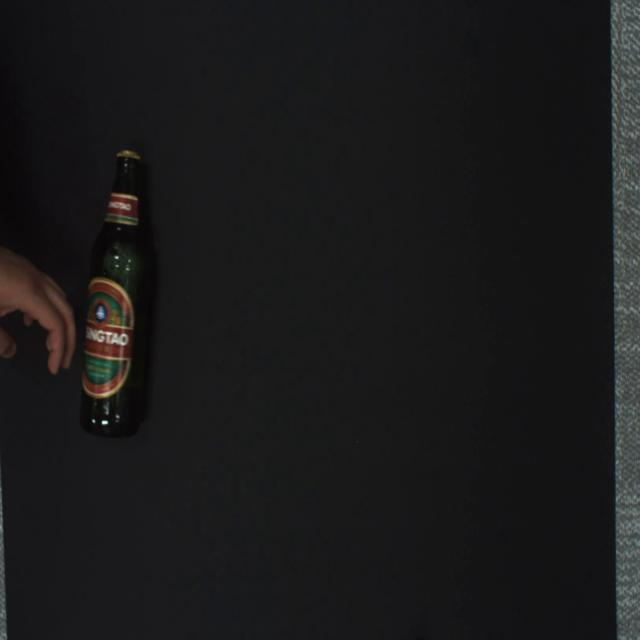beer-bottle: (79, 149, 152, 437)
